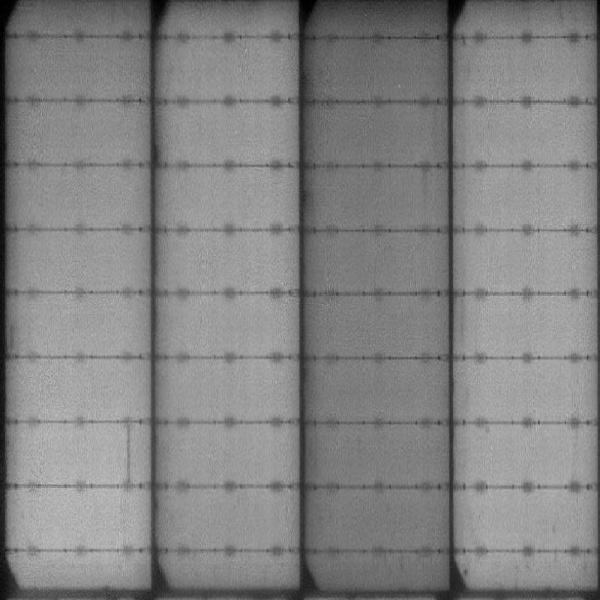scratch: (123, 425, 136, 483)
